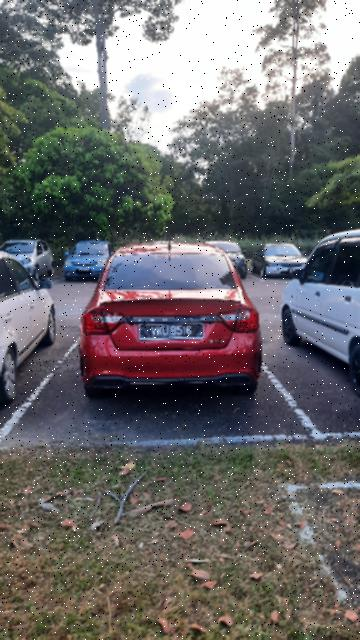License_Plate: (137, 324, 205, 342)
car: (77, 239, 265, 403)
